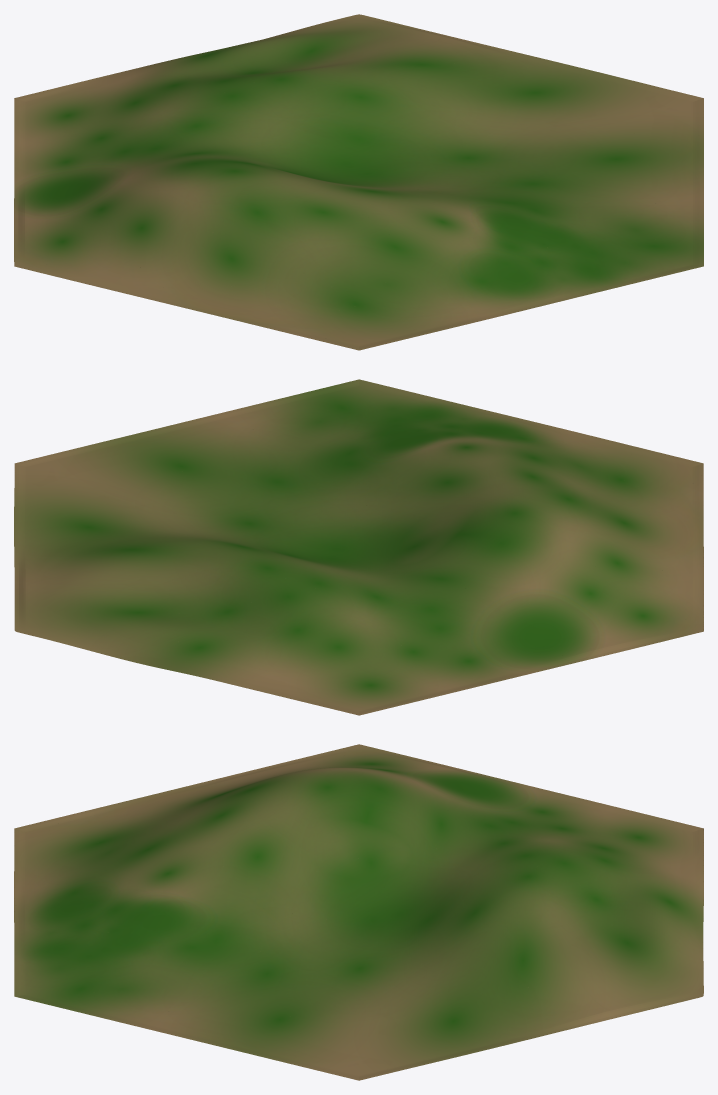
File: Forest2.glb
3 renders of one model, top to bottom at view 1: azimuth 30°, elevation 25°; view 2: azimuth 150°, elevation 25°; view 3: azimuth 270°, elevation 25°, orthographic.
Visible parts, largest first — view 1: Circle; view 2: Circle; view 3: Circle.
Part boxes in pixels (box(x1,y1,x2,y2)): Circle: box(14, 14, 703, 350); Circle: box(14, 379, 703, 715); Circle: box(14, 744, 703, 1080).
Size of the model in its own units: 400 by 33.83 by 347.
Materials: 1 (1 with a texture image).
